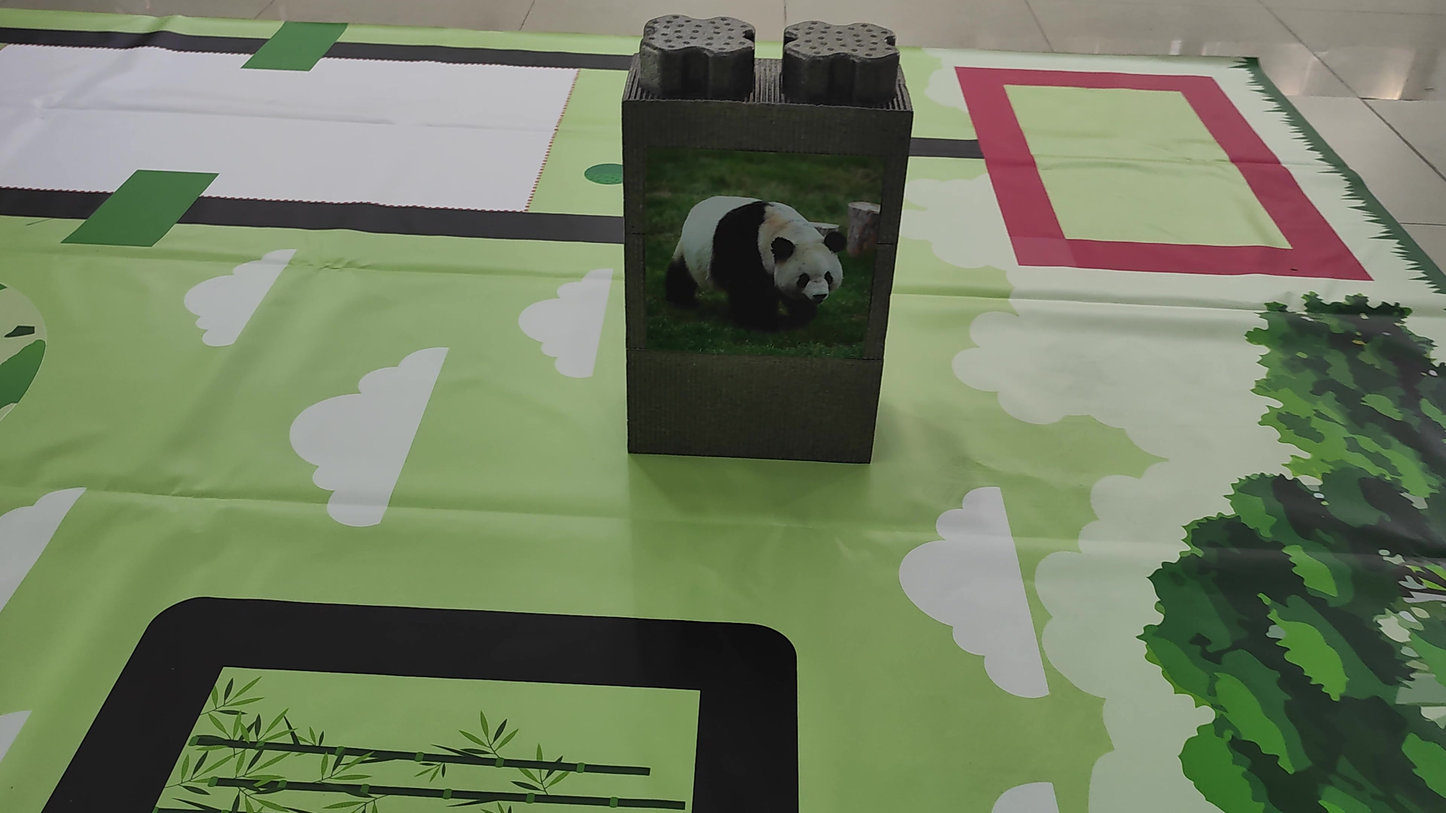panda: (656, 150, 866, 340)
